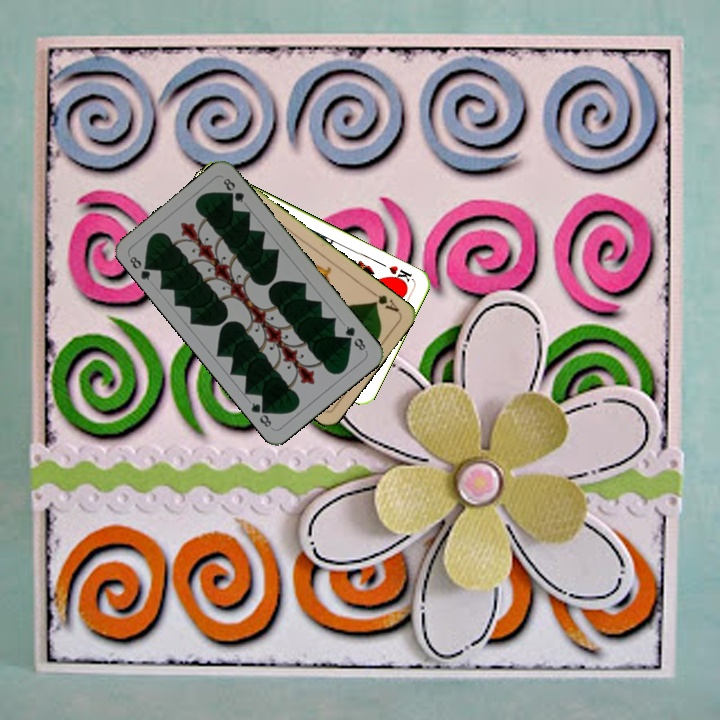G8: (125, 252, 156, 283), (341, 322, 368, 353)
GA: (366, 286, 401, 315)
HK: (385, 261, 416, 288)
